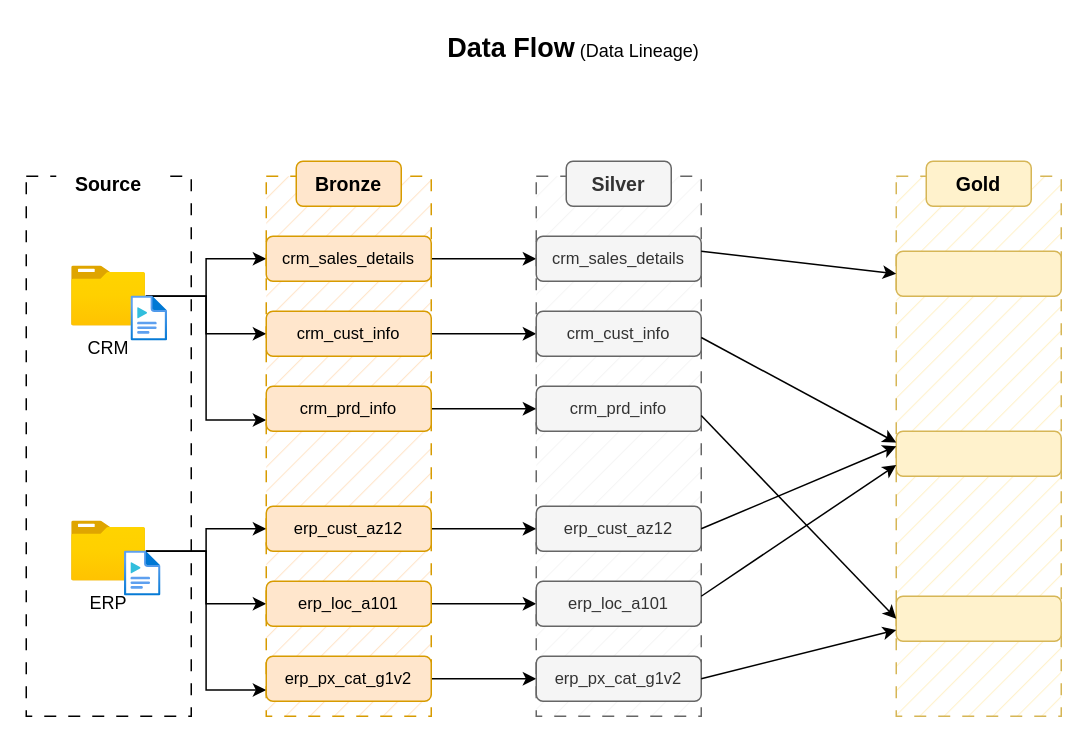
Image size: 1088x743. Some labels were removed from this diagram. The shapes that lost their labels are listed below. From the top down, each one's box as (x1, y1, x2, y2) in pixels, then its label:
(895, 250, 1061, 296): Fact_slaes
(895, 430, 1061, 476): dim_customers
(895, 595, 1061, 641): dim_products
